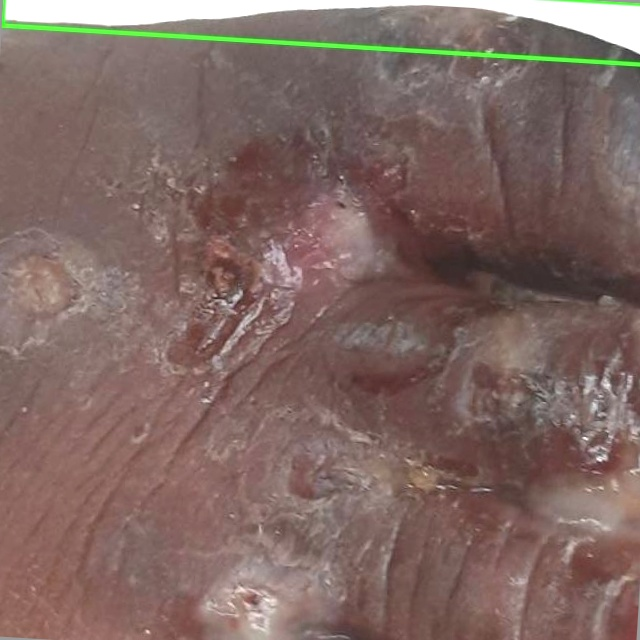Eczema: (2, 0, 639, 64)
